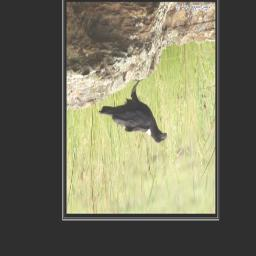Crow: (98, 79, 168, 144)
